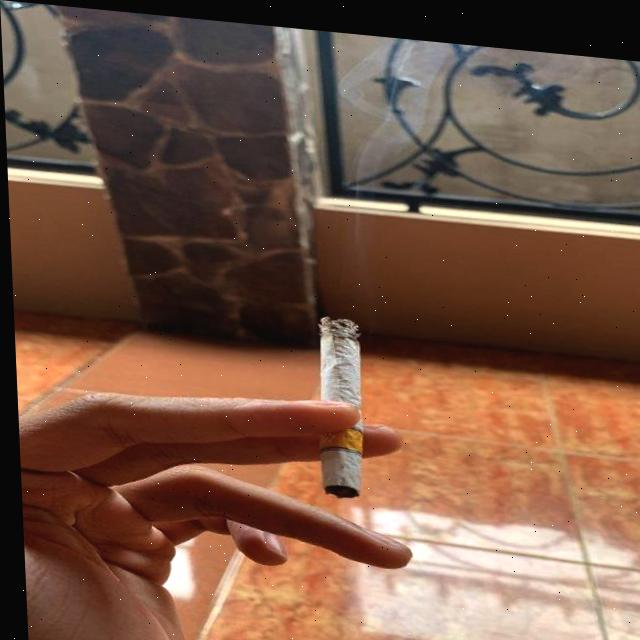cigarette: (316, 309, 360, 492)
